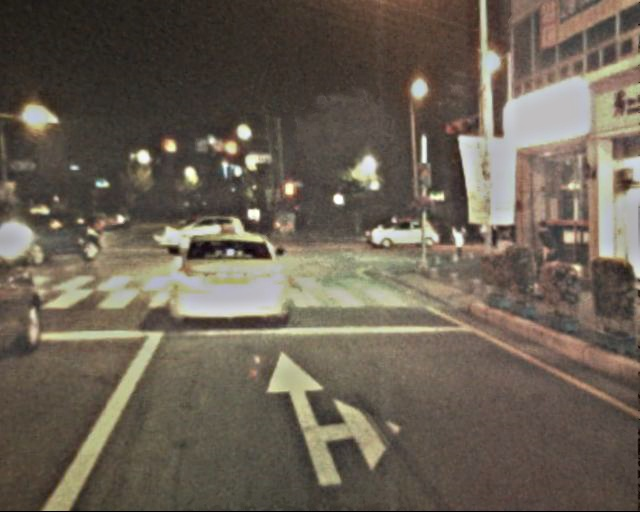person: (533, 218, 557, 288), (452, 218, 473, 265)
